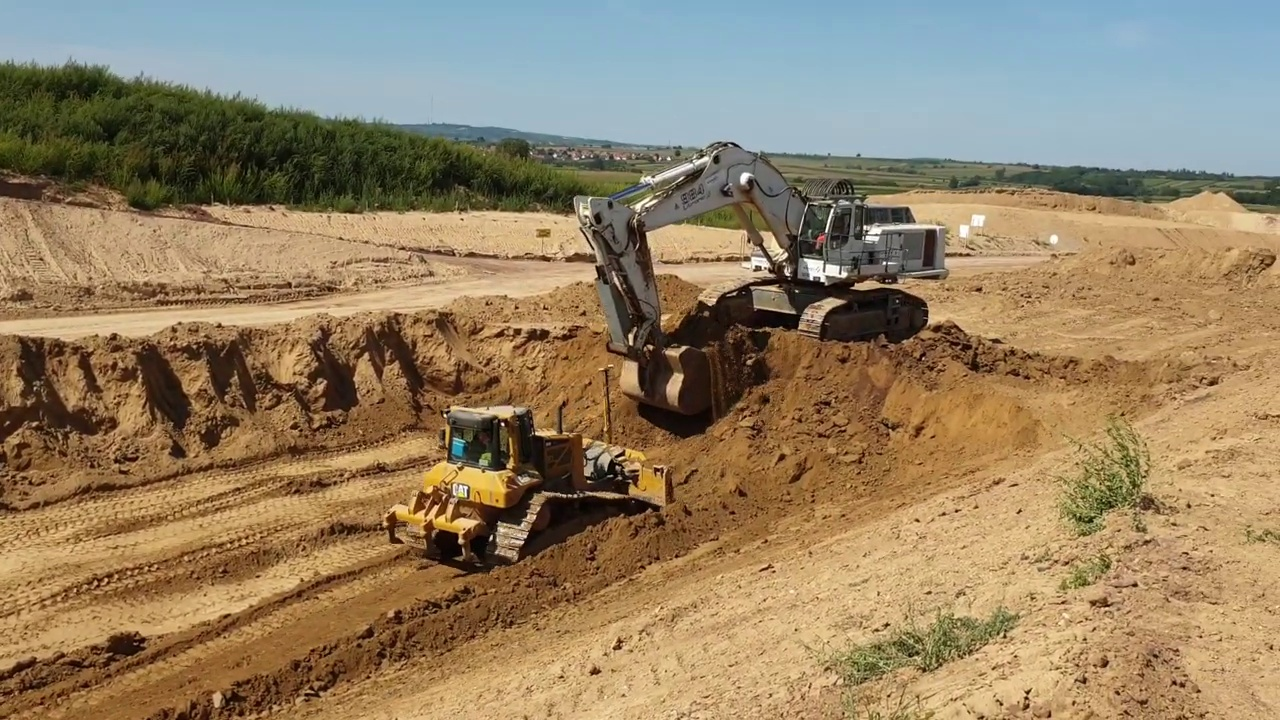bulldozer: (383, 361, 680, 581)
excavator: (568, 138, 956, 427)
